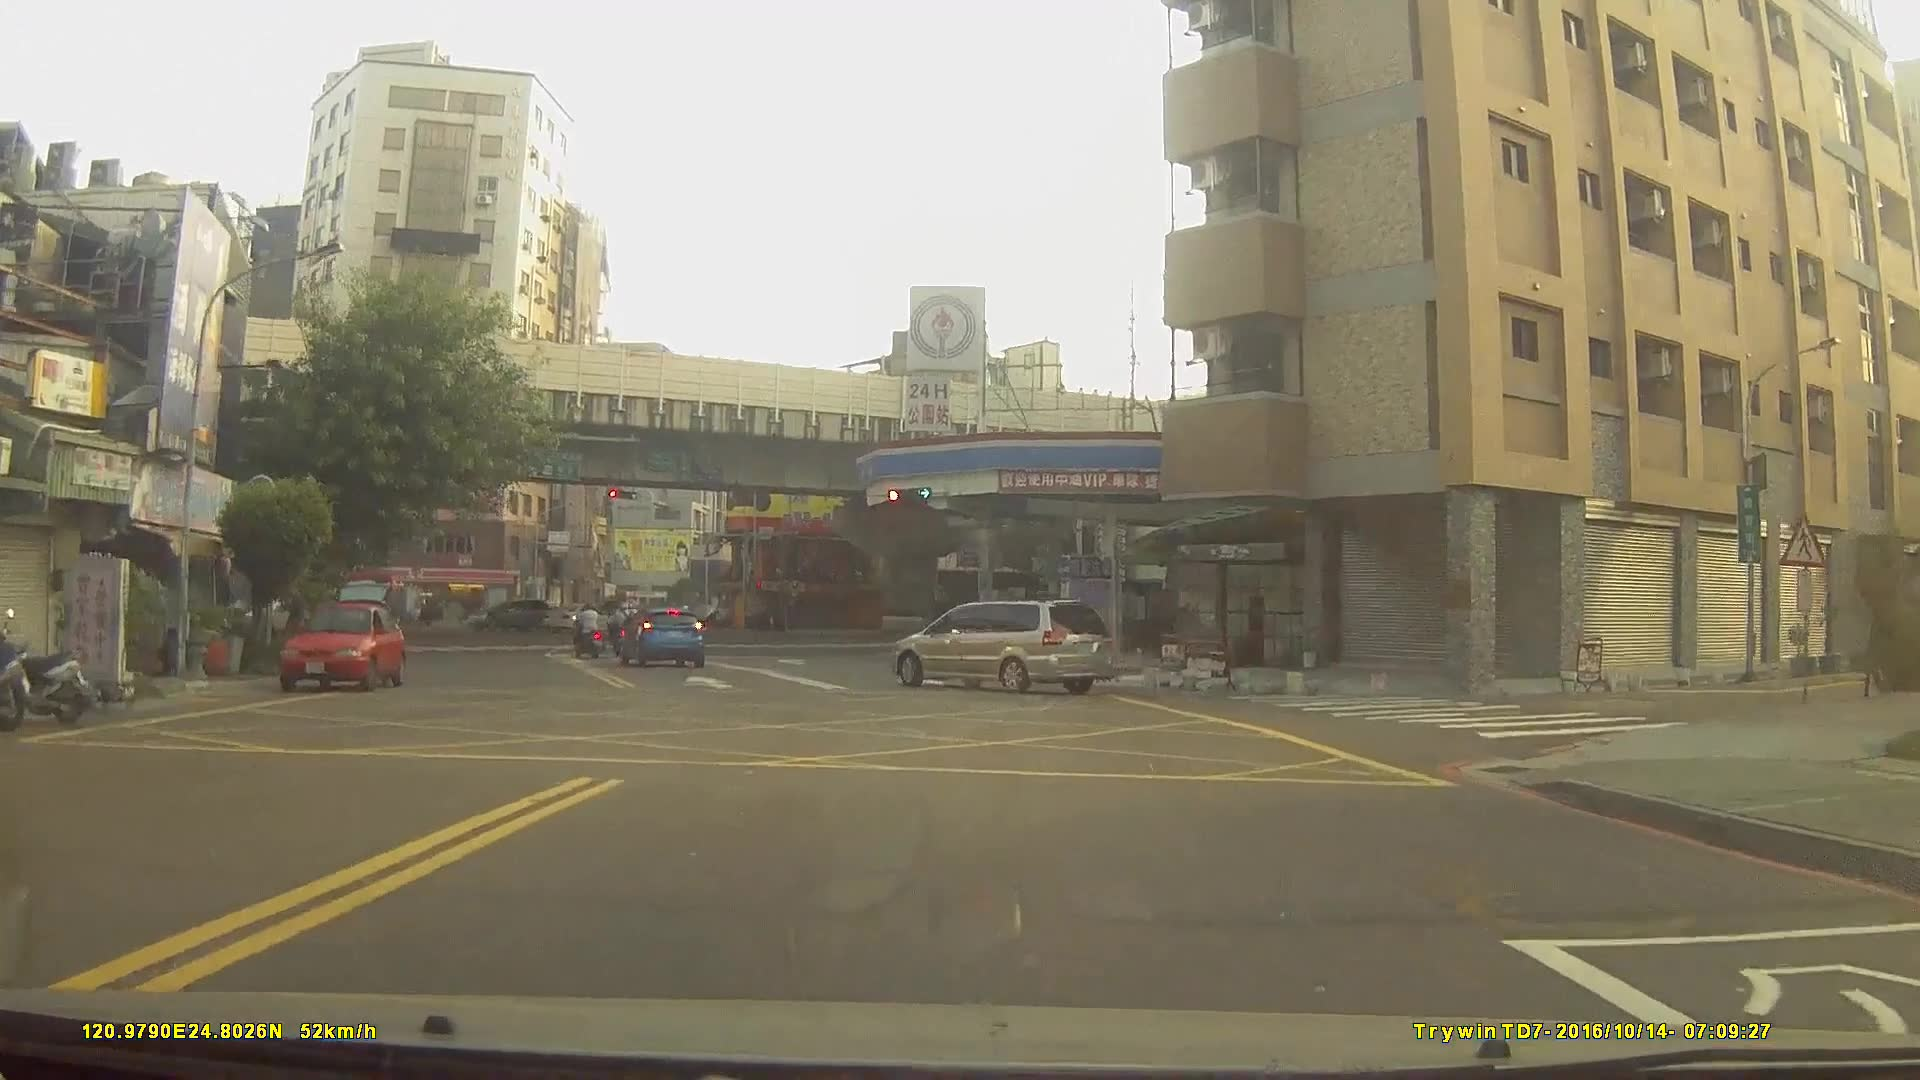rider: (570, 602, 603, 661)
vehicle: (890, 601, 1113, 695), (275, 601, 406, 694), (614, 608, 707, 671), (465, 597, 552, 632), (542, 604, 620, 636)
